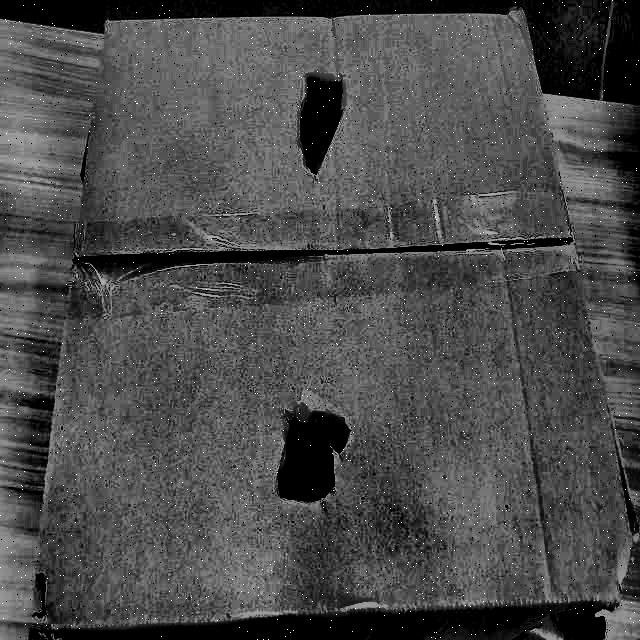box: (8, 4, 639, 639)
hole: (272, 408, 354, 512), (290, 69, 350, 181)
